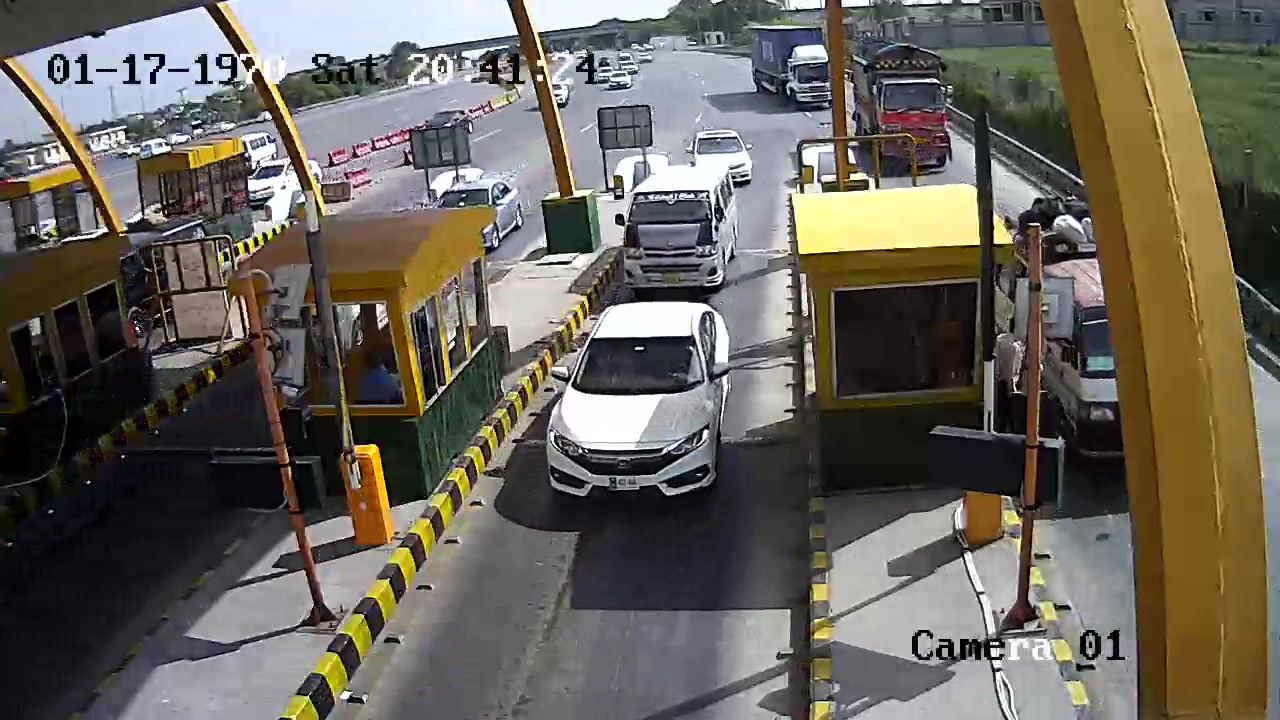F1: (546, 298, 742, 526)
F2: (611, 156, 751, 299)
